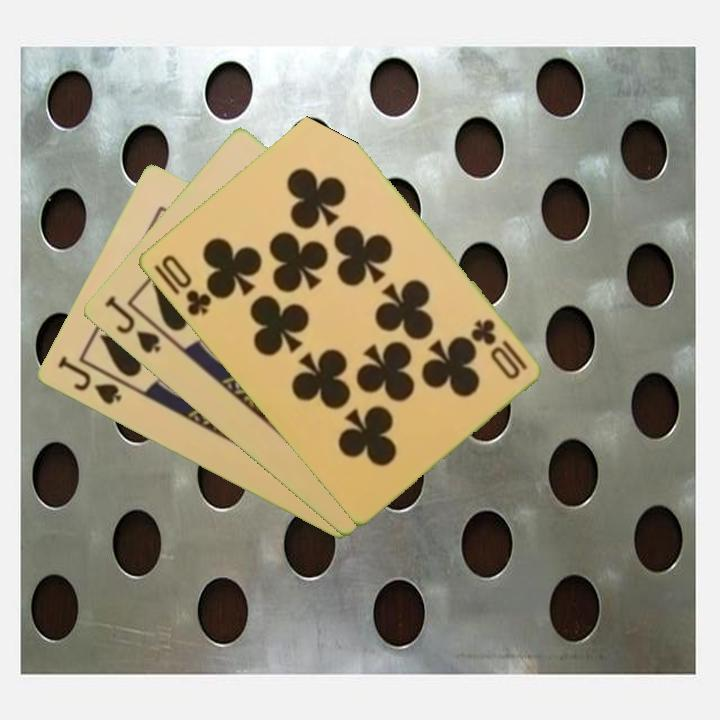10c: (467, 315, 530, 383), (157, 251, 214, 319)
Js: (100, 292, 164, 357), (53, 352, 125, 408)
